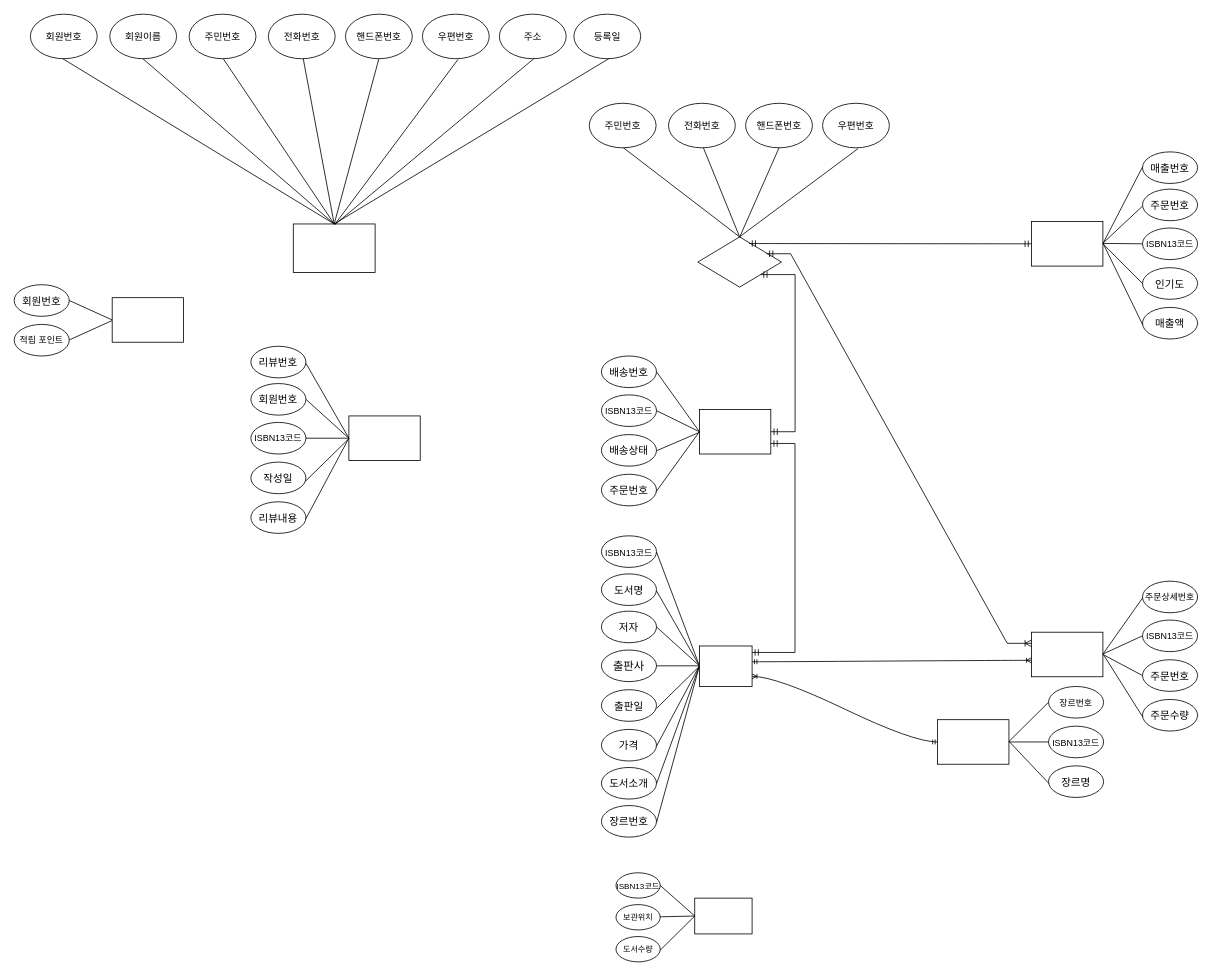
Image size: 1212x976. Some labels were removed from this diagram. The centre of each missing label's shape, as x and y in pixels:
도서: [725,665]
매출: [1067,243]
배송: [735,431]
장르: [973,741]
재고관리: [723,915]
주문: [739,261]
주문상세: [1067,654]
포인트: [147,319]
회원: [333,248]
회원리뷰: [384,437]
